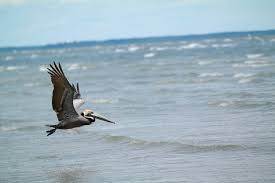pelican: (46, 61, 115, 137)
